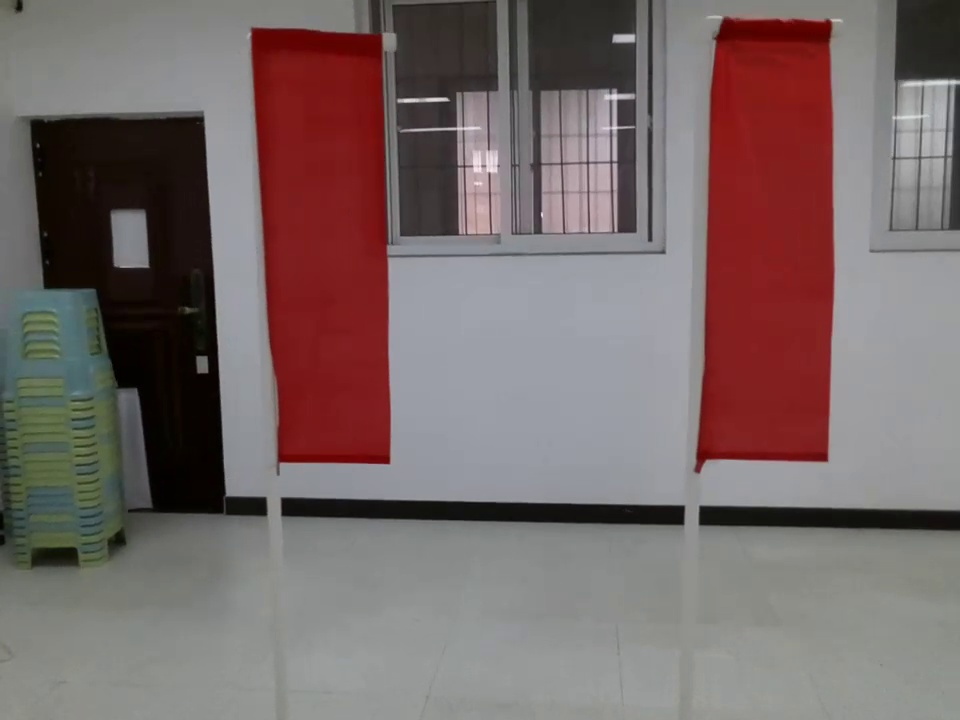qi: (682, 15, 835, 524), (243, 21, 398, 500)
